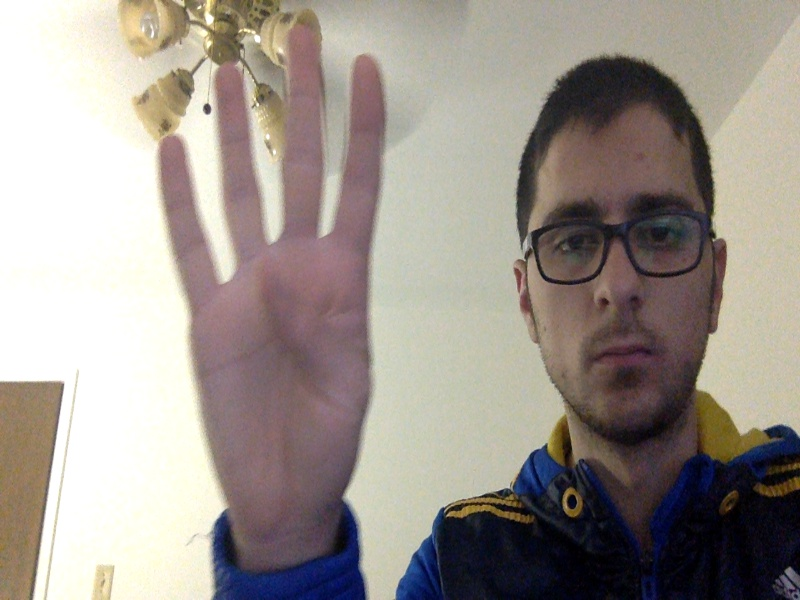4-hand: (157, 22, 394, 559)
